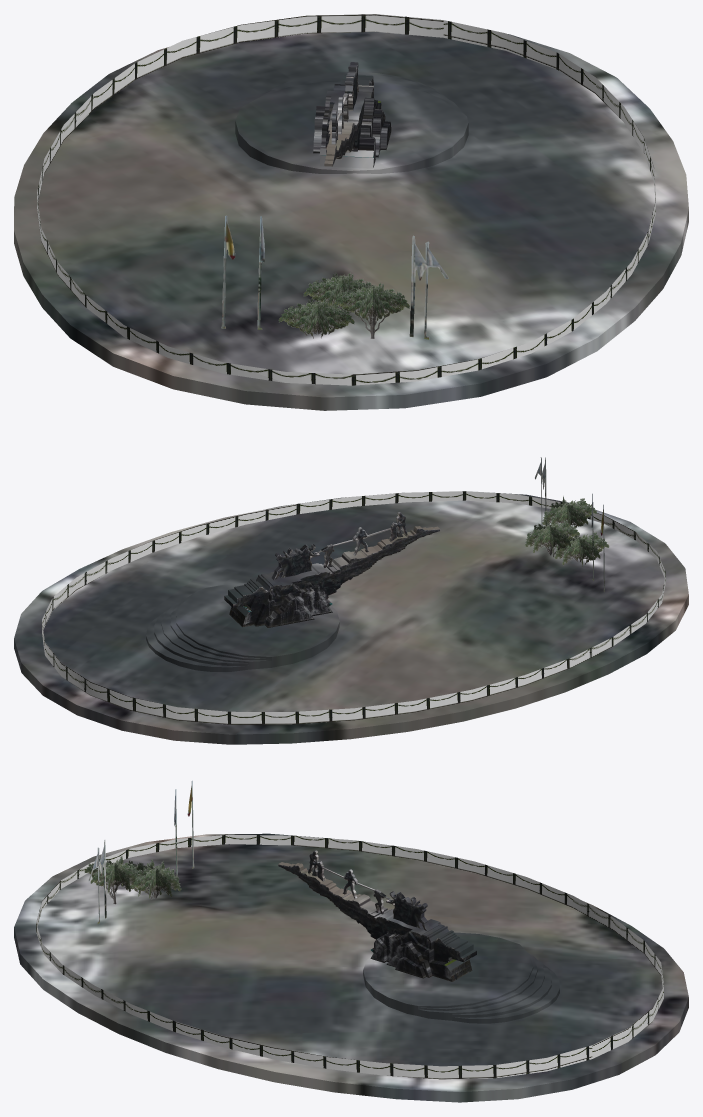
The model's file is glorieta+monumento+a+la+solidaridad+(cali).fbx.
The picture shows the model from 3 angles, top to bottom: view 1: azimuth 30°, elevation 25°; view 2: azimuth 150°, elevation 25°; view 3: azimuth 270°, elevation 25°; orthographic projection. The views are drawn at different scales.
Visible parts, largest first — view 1: Model, Group1, Group3, Group2; view 2: Model, Group2, Group1, Group3; view 3: Model, Group2, Group1.
Boxes of the visible parts, <box> form: Model: <box>14,14,688,410</box>; Group1: <box>334,282,409,338</box>; Group3: <box>278,298,354,338</box>; Group2: <box>303,272,373,314</box>; Model: <box>14,457,688,744</box>; Group2: <box>524,517,579,557</box>; Group1: <box>542,496,596,535</box>; Group3: <box>554,532,609,567</box>; Model: <box>14,780,688,1102</box>; Group2: <box>130,861,181,899</box>; Group1: <box>84,856,137,904</box>.
Bounding box in the file's own units: 7649 × 1573 × 8565.
